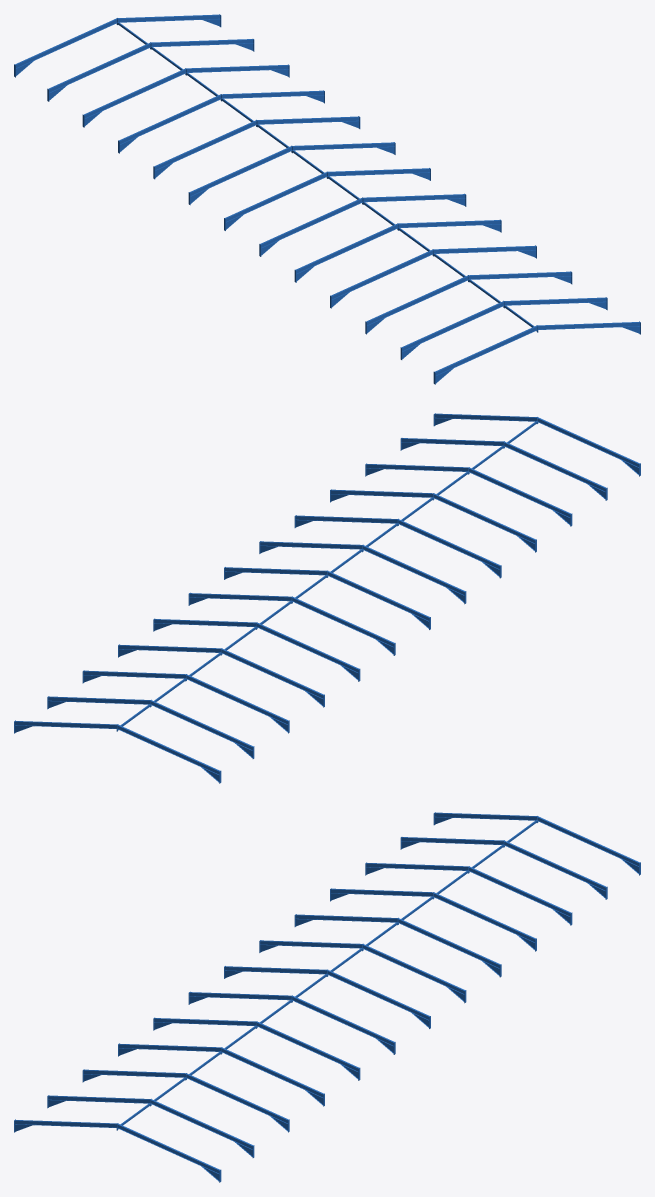
Rendered from baja.glb.
The picture shows the model from 3 angles, top to bottom: view 1: azimuth 30°, elevation 25°; view 2: azimuth 150°, elevation 25°; view 3: azimuth 330°, elevation 25°; orthographic projection.
Parts seen in each view (by area): view 1: baja; view 2: baja; view 3: baja.
Part boxes in pixels (x1,y1,x2,y2): baja: [14, 14, 640, 384]; baja: [14, 413, 640, 783]; baja: [14, 812, 640, 1182].
Bounding box in the file's own units: 16.8 × 2.63 × 59.65.
